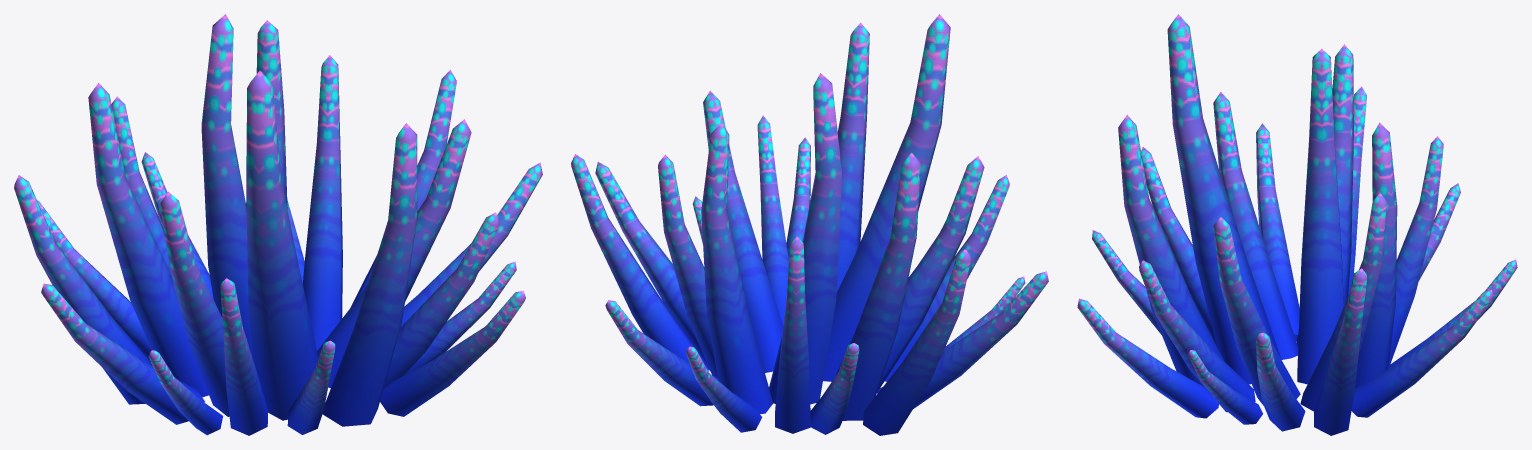
Rendered from Coral_12.FBX.
3 renders of one model, left to right at view 1: azimuth 30°, elevation 25°; view 2: azimuth 150°, elevation 25°; view 3: azimuth 270°, elevation 25°, orthographic. The views are drawn at different scales.
Parts seen in each view (by area): view 1: Coral_12; view 2: Coral_12; view 3: Coral_12.
Boxes of the visible parts, x1,y1,x2,y2 form: Coral_12: (14, 14, 542, 435); Coral_12: (571, 14, 1048, 435); Coral_12: (1077, 14, 1517, 435).
Bounding box in the file's own units: 66.92 × 50.32 × 59.15.
